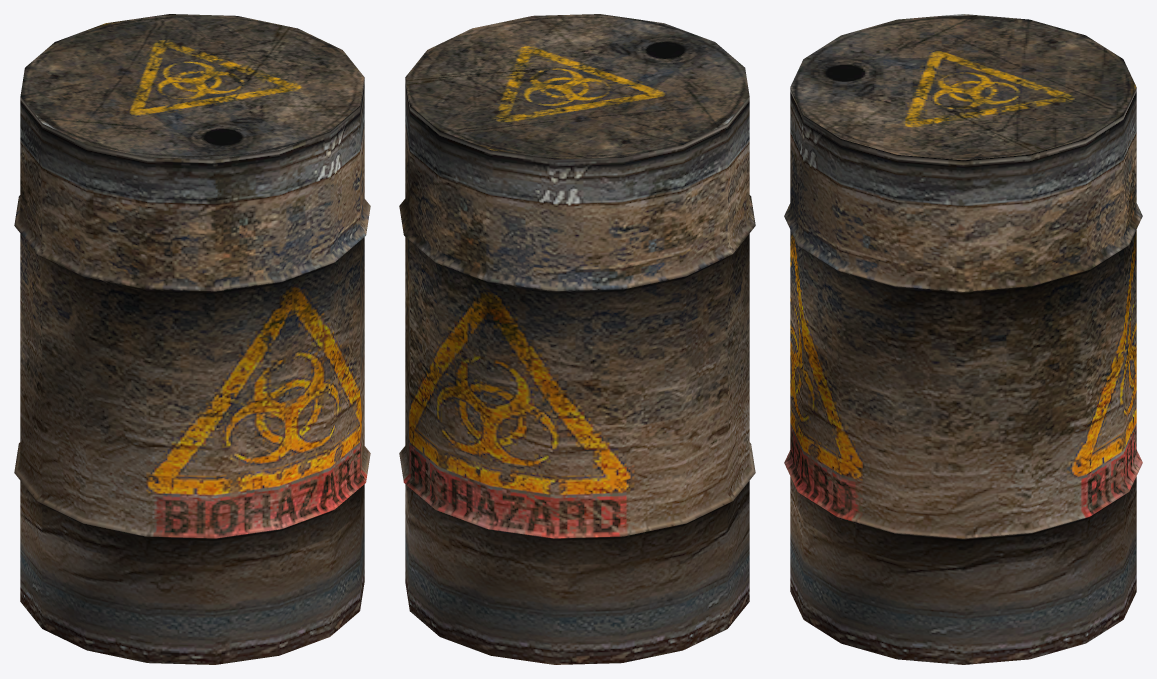
File: barrel_metal.glb
3 views of the same model, side by side, from view 1: azimuth 30°, elevation 25°; view 2: azimuth 150°, elevation 25°; view 3: azimuth 270°, elevation 25° (orthographic).
Visible parts, largest first — view 1: MetalBarrel1_MetalBarrel_0; view 2: MetalBarrel1_MetalBarrel_0; view 3: MetalBarrel1_MetalBarrel_0.
Boxes of the visible parts, x1=… form: MetalBarrel1_MetalBarrel_0: x1=14, y1=14, x2=370, y2=664; MetalBarrel1_MetalBarrel_0: x1=399, y1=14, x2=755, y2=664; MetalBarrel1_MetalBarrel_0: x1=784, y1=14, x2=1142, y2=664.
Size of the model in its own units: 0.5525 by 0.8574 by 0.5526.
1 material, 1 textured.
